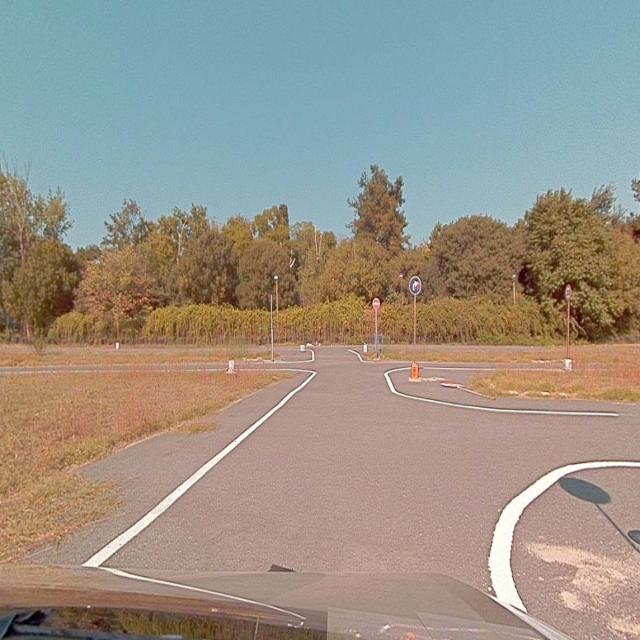girisyok: (372, 298, 380, 308)
sag: (409, 278, 421, 294)
